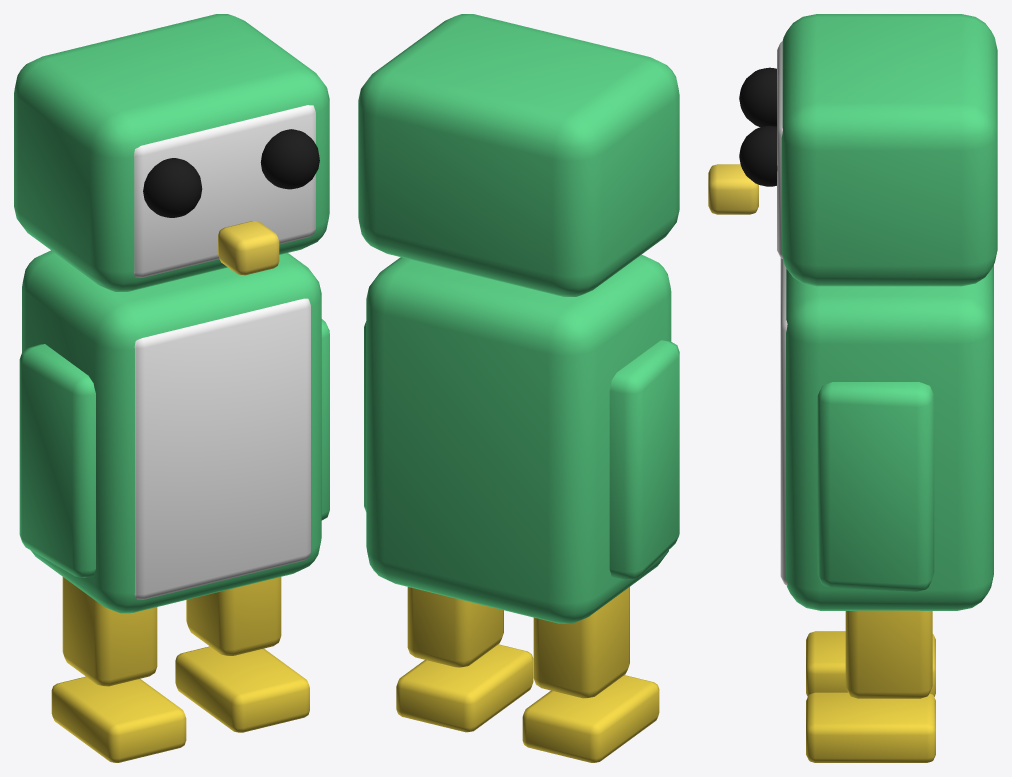
Rendered from Penguin_Green.glb.
The picture shows the model from 3 angles, left to right: view 1: azimuth 30°, elevation 25°; view 2: azimuth 150°, elevation 25°; view 3: azimuth 270°, elevation 25°; orthographic projection.
Visible parts, largest first — view 1: Penguin_Green; view 2: Penguin_Green; view 3: Penguin_Green.
Part boxes in pixels (x1=…): Penguin_Green: x1=14, y1=14, x2=329, y2=762; Penguin_Green: x1=358, y1=14, x2=679, y2=762; Penguin_Green: x1=708, y1=14, x2=997, y2=762.
Size of the model in its own units: 0.8797 by 2 by 0.8.
